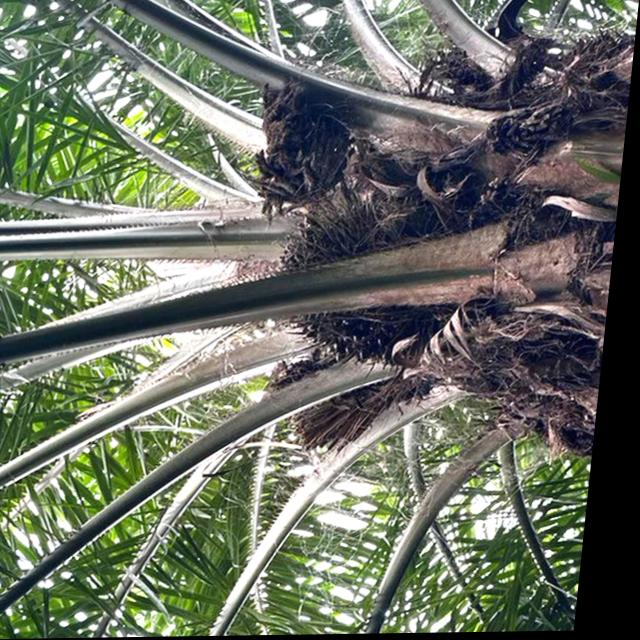almost: (269, 225, 469, 375)
